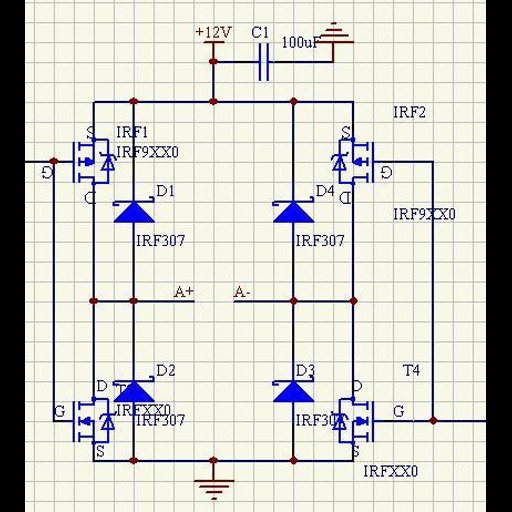capacitor: (253, 41, 276, 84)
gnd: (191, 478, 241, 501), (316, 19, 356, 44)
mos: (70, 137, 95, 186), (352, 138, 377, 186), (352, 401, 379, 443), (72, 398, 96, 445)
